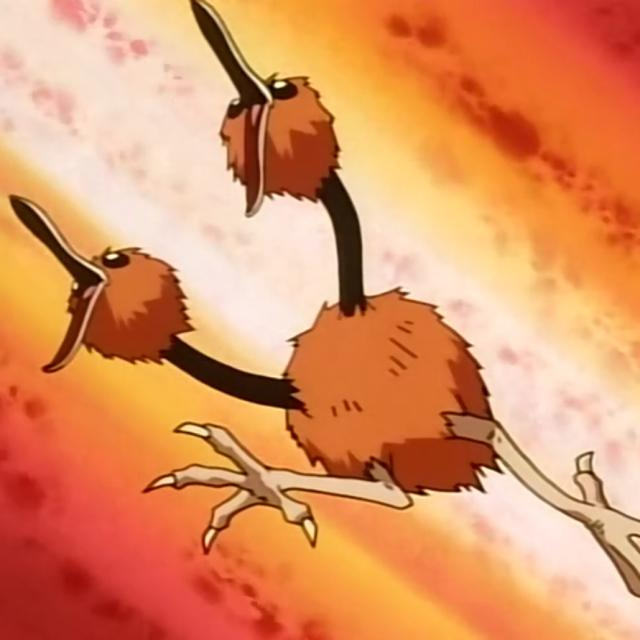Doduo: (56, 60, 504, 527)
